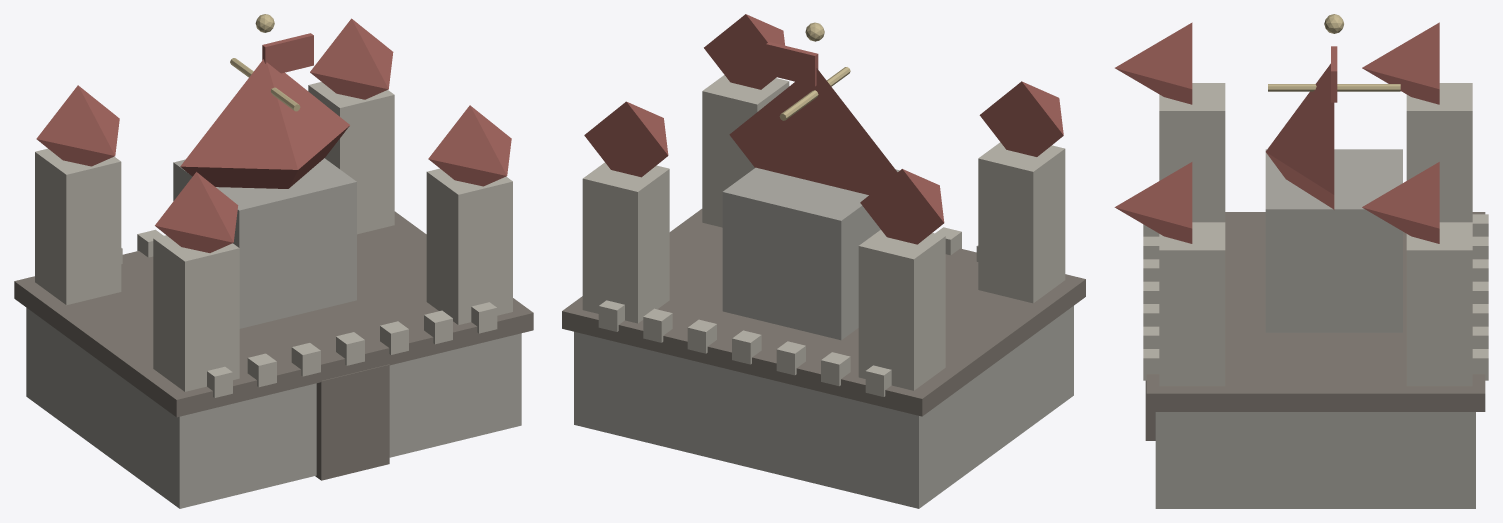
The model's file is gorkha_hillfort.glb.
The picture shows the model from 3 angles, left to right: view 1: azimuth 30°, elevation 25°; view 2: azimuth 150°, elevation 25°; view 3: azimuth 270°, elevation 25°; orthographic projection. The views are drawn at different scales.
Parts seen in each view (by area): view 1: gorkha_hillfort_00, gorkha_hillfort_01, gorkha_hillfort_10, gorkha_hillfort_11, gorkha_hillfort_02, gorkha_hillfort_04, gorkha_hillfort_08, gorkha_hillfort_12, gorkha_hillfort_06, gorkha_hillfort_03, gorkha_hillfort_09, gorkha_hillfort_05 (+9 smaller); view 2: gorkha_hillfort_00, gorkha_hillfort_01, gorkha_hillfort_10, gorkha_hillfort_04, gorkha_hillfort_02, gorkha_hillfort_06, gorkha_hillfort_11, gorkha_hillfort_08, gorkha_hillfort_05, gorkha_hillfort_03, gorkha_hillfort_07, gorkha_hillfort_09 (+9 smaller); view 3: gorkha_hillfort_00, gorkha_hillfort_01, gorkha_hillfort_10, gorkha_hillfort_06, gorkha_hillfort_08, gorkha_hillfort_02, gorkha_hillfort_04, gorkha_hillfort_11, gorkha_hillfort_05, gorkha_hillfort_09, gorkha_hillfort_07, gorkha_hillfort_03 (+3 smaller).
Part boxes in pixels (x1,y1,x2,y2): gorkha_hillfort_00: (26, 307, 521, 508); gorkha_hillfort_01: (14, 211, 533, 417); gorkha_hillfort_10: (173, 158, 356, 328); gorkha_hillfort_11: (180, 59, 349, 188); gorkha_hillfort_02: (35, 148, 121, 305); gorkha_hillfort_04: (153, 235, 239, 391); gorkha_hillfort_08: (426, 168, 512, 324); gorkha_hillfort_12: (315, 364, 389, 480); gorkha_hillfort_06: (308, 82, 394, 234); gorkha_hillfort_03: (36, 85, 119, 166); gorkha_hillfort_09: (428, 105, 511, 186); gorkha_hillfort_05: (155, 172, 238, 252); gorkha_hillfort_00: (574, 306, 1073, 508); gorkha_hillfort_01: (562, 209, 1085, 416); gorkha_hillfort_10: (722, 167, 899, 340); gorkha_hillfort_04: (978, 142, 1065, 303); gorkha_hillfort_02: (858, 230, 945, 390); gorkha_hillfort_06: (582, 162, 669, 323); gorkha_hillfort_11: (729, 68, 897, 194); gorkha_hillfort_08: (702, 75, 789, 227); gorkha_hillfort_05: (979, 81, 1063, 156); gorkha_hillfort_03: (860, 169, 944, 244); gorkha_hillfort_07: (584, 101, 668, 177); gorkha_hillfort_09: (704, 14, 784, 89); gorkha_hillfort_00: (1155, 412, 1475, 508); gorkha_hillfort_01: (1146, 212, 1485, 411); gorkha_hillfort_10: (1265, 149, 1402, 332); gorkha_hillfort_06: (1406, 222, 1472, 386); gorkha_hillfort_08: (1159, 222, 1225, 386); gorkha_hillfort_02: (1406, 83, 1472, 222); gorkha_hillfort_04: (1159, 83, 1225, 222); gorkha_hillfort_11: (1265, 63, 1334, 209); gorkha_hillfort_05: (1115, 22, 1192, 104); gorkha_hillfort_09: (1114, 162, 1192, 243); gorkha_hillfort_07: (1362, 162, 1439, 243); gorkha_hillfort_03: (1362, 22, 1439, 104).
Bounding box in the file's own units: 4.7 × 4.92 × 4.09.
